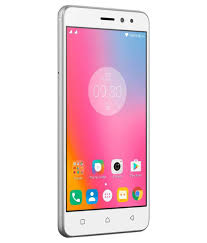lenovo: (56, 3, 153, 238)
